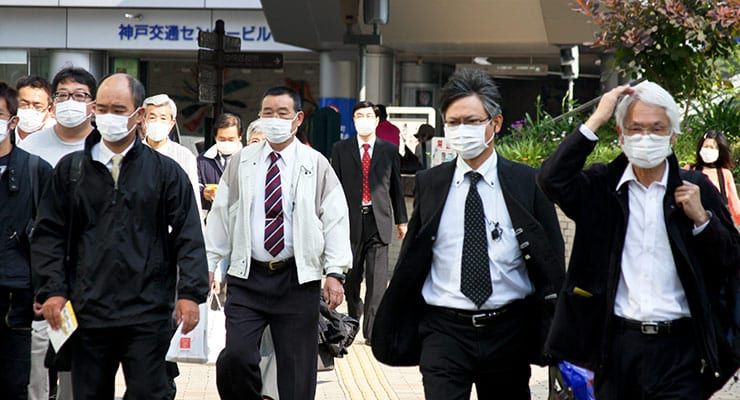mask: (621, 135, 670, 166), (446, 129, 494, 160), (258, 114, 298, 142), (96, 116, 132, 143), (54, 99, 88, 127)
